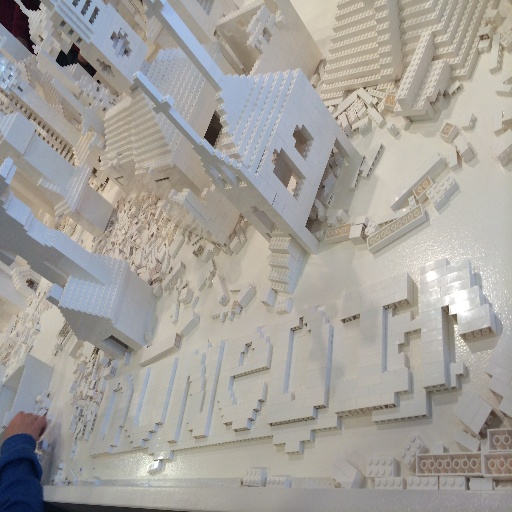hand: (8, 398, 41, 485)
